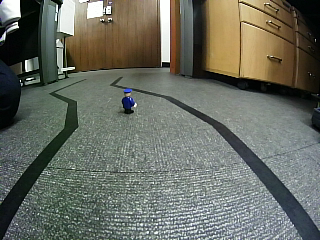person: (122, 89, 138, 114)
